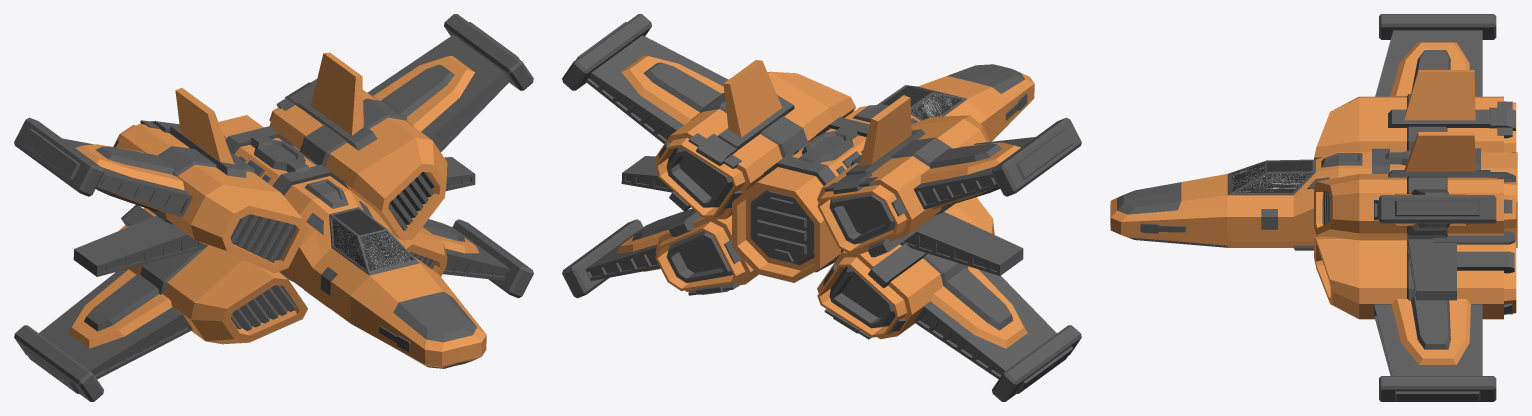
File: SpaceFighter_Heavy.fbx
3 views of the same model, side by side, from view 1: azimuth 30°, elevation 25°; view 2: azimuth 150°, elevation 25°; view 3: azimuth 270°, elevation 25° (orthographic). The views are drawn at different scales.
Parts seen in each view (by area): view 1: Fuselage_Heavy, Canopy; view 2: Fuselage_Heavy, Exhaust_Heavy, Canopy; view 3: Fuselage_Heavy, Canopy.
Part boxes in pixels (bbox=[...]): Fuselage_Heavy: bbox=[14, 14, 533, 401]; Canopy: bbox=[329, 207, 419, 275]; Fuselage_Heavy: bbox=[562, 14, 1081, 401]; Exhaust_Heavy: bbox=[679, 155, 886, 317]; Canopy: bbox=[877, 85, 967, 120]; Fuselage_Heavy: bbox=[1110, 14, 1517, 401]; Canopy: bbox=[1227, 159, 1315, 195].
Bounding box in the file's own units: 1336 × 675 × 1190.
